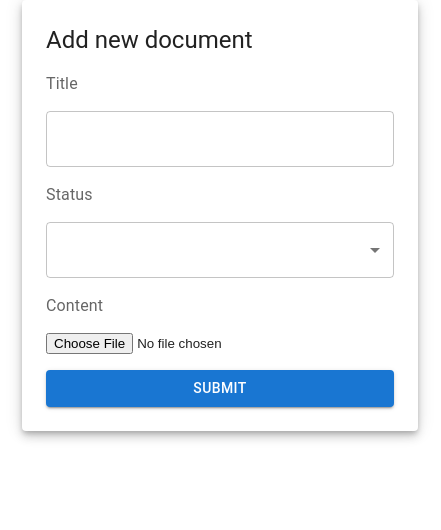
Test: AddDocument › File field › Should display no file error when no file uploaded
The image size is (441, 530).
Step 1. Type "Tomas Tomukas" into the field with test id "title_field" → (220, 139), box [46,111,394,167]
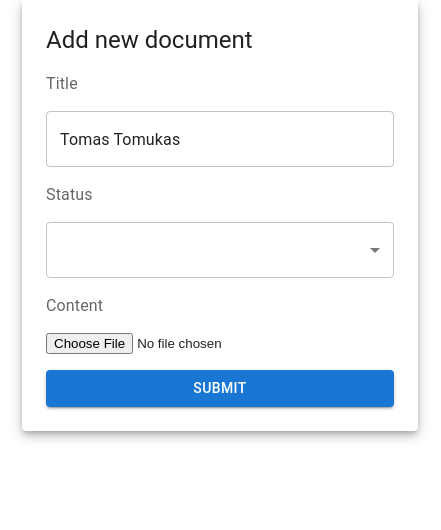
Step 2. Replace the text in the field with test id "status_field" with "active" → (220, 250), box [46,222,394,278]
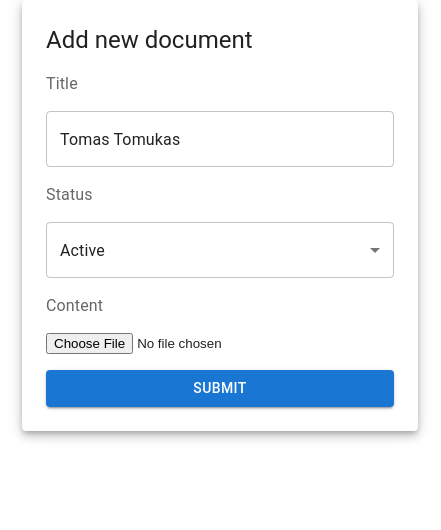
Step 3. Click the button with test id "submit_button" → (220, 388), box [46,370,394,406]
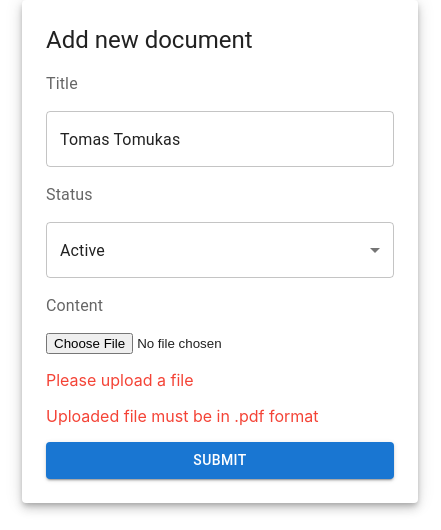
expect the text "Please upload a file" is shown: met, box [46,370,194,390]
